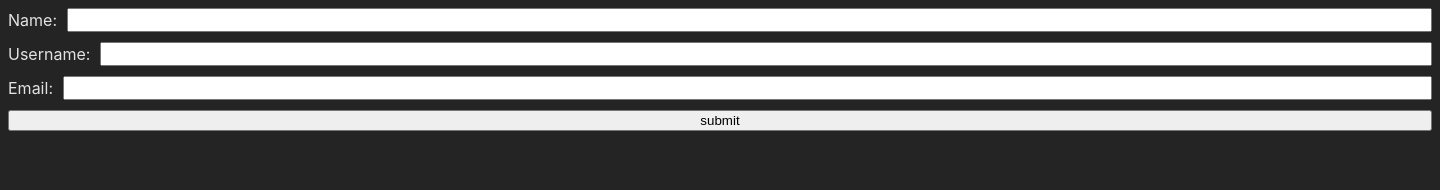
CreateUserForm Component › should show a success message on api success
This screenshot has width=1440, height=190.
In the field with test id "Name-input": {"x": 750, "y": 20} left=67, top=8, right=1432, bottom=32, type "test 1"
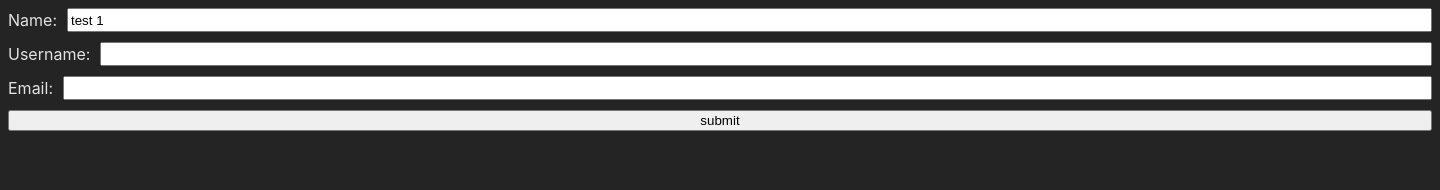
In the field with test id "Email-input": {"x": 748, "y": 88} left=63, top=76, right=1432, bottom=100, type "test 2"
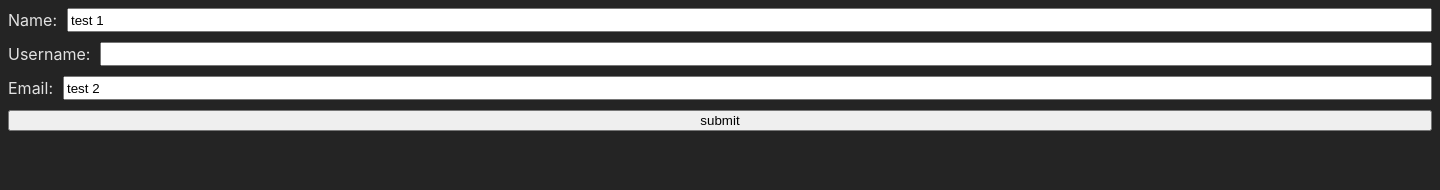
In the field with test id "Username-input": {"x": 766, "y": 54} left=100, top=42, right=1432, bottom=66, type "test 3"
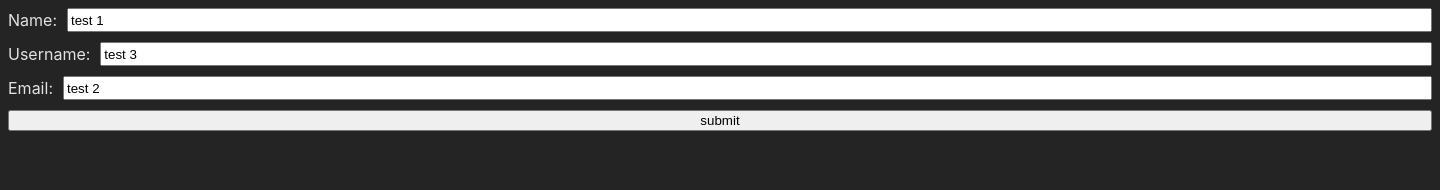
Click the button "submit": {"x": 720, "y": 120} left=8, top=110, right=1432, bottom=131
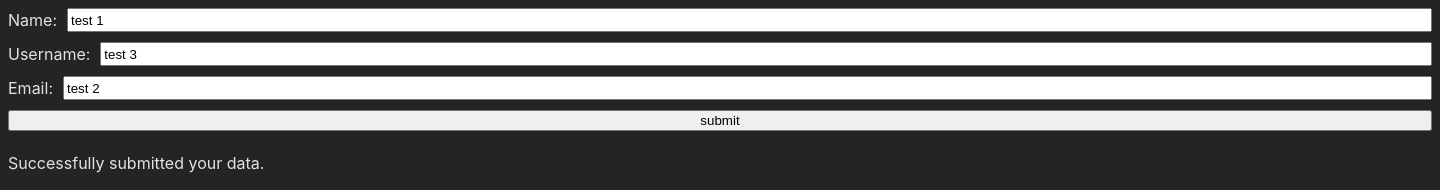
Now the text "Successfully submitted your data." is shown, box left=8, top=153, right=264, bottom=173
